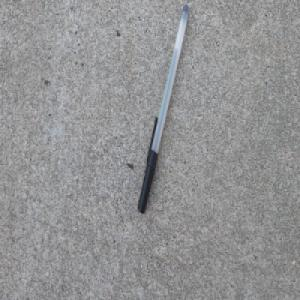Pen: (137, 2, 190, 215)
